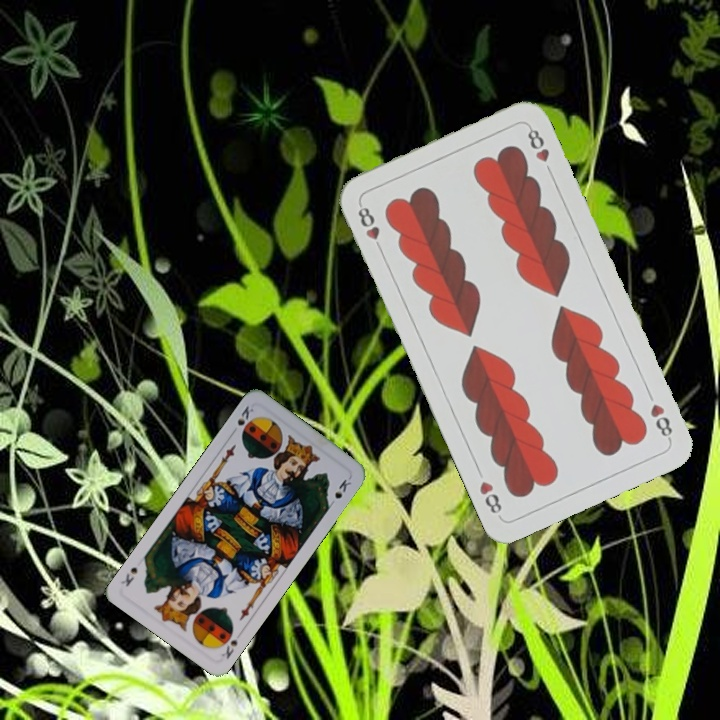H8: (353, 199, 386, 255), (646, 399, 675, 443)
SK: (227, 402, 257, 437), (217, 635, 241, 662)
